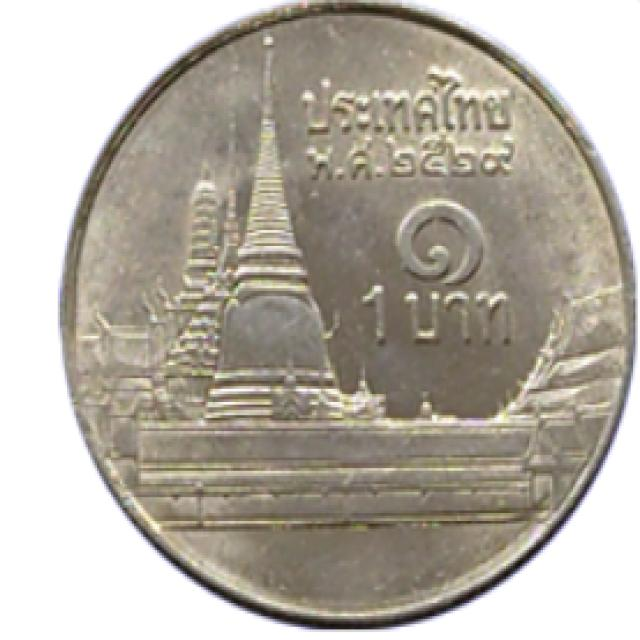1 Bath: (49, 2, 639, 639)
